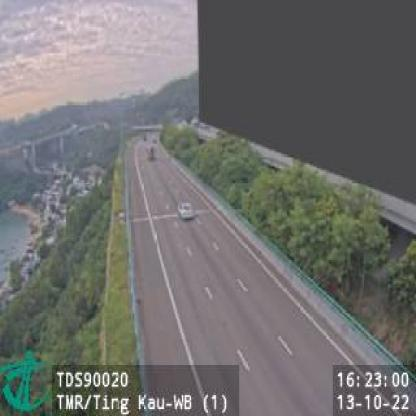Car: (178, 200, 194, 221)
